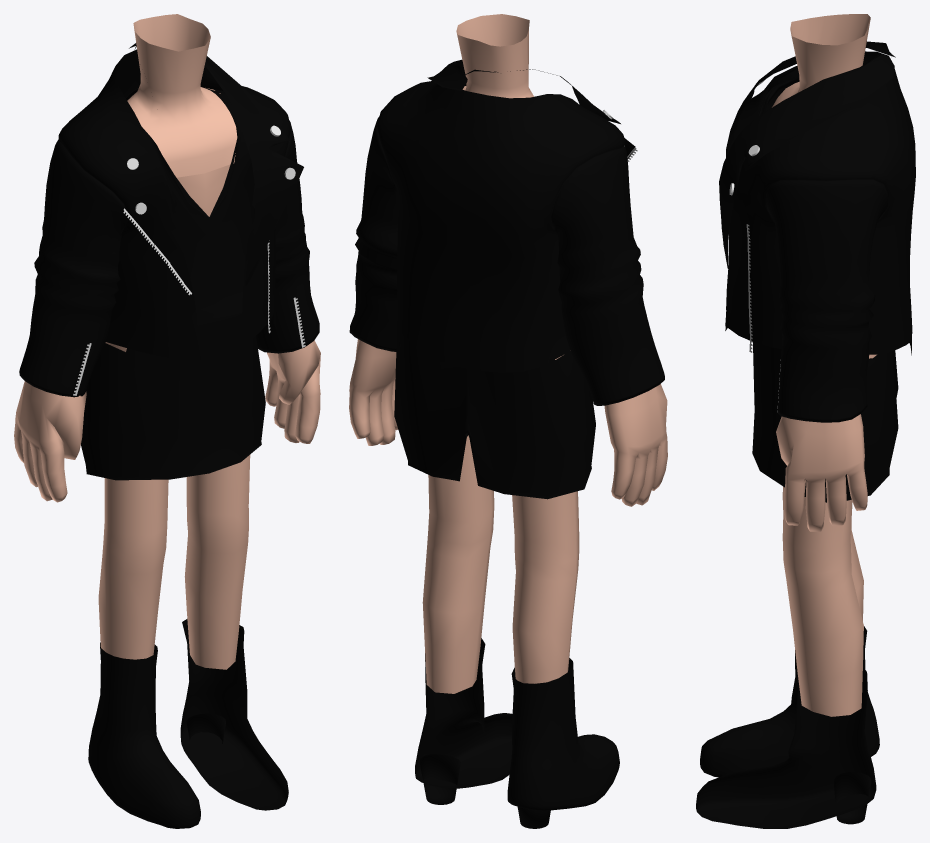
Rendered from fm-body.glb.
3 views of the same model, side by side, from view 1: azimuth 30°, elevation 25°; view 2: azimuth 150°, elevation 25°; view 3: azimuth 270°, elevation 25° (orthographic). The views are drawn at different scales.
Visible parts, largest first — view 1: fm_jacket, fm_body, fm_dress, fm_shoes; view 2: fm_jacket, fm_body, fm_dress, fm_shoes; view 3: fm_jacket, fm_body, fm_shoes, fm_dress.
Part boxes in pixels (x1,y1,x2,y2): fm_jacket: (19,43,319,397); fm_body: (14,14,320,669); fm_dress: (81,86,265,480); fm_shoes: (88,619,288,828); fm_jacket: (349,59,664,405); fm_body: (349,14,667,693); fm_dress: (394,84,595,499); fm_shoes: (415,638,619,828); fm_jacket: (719,41,915,422); fm_body: (772,14,876,716); fm_shoes: (696,626,879,828); fm_dress: (752,69,898,502).
Bounding box in the file's own units: 0.377 × 0.9248 × 0.2386.
5 materials, 1 textured.
